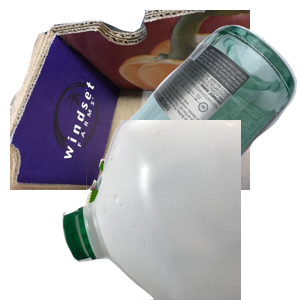cardboard: (10, 10, 250, 190)
glass: (86, 22, 300, 202)
plastic: (60, 120, 300, 300)
trash: (75, 156, 244, 300)
